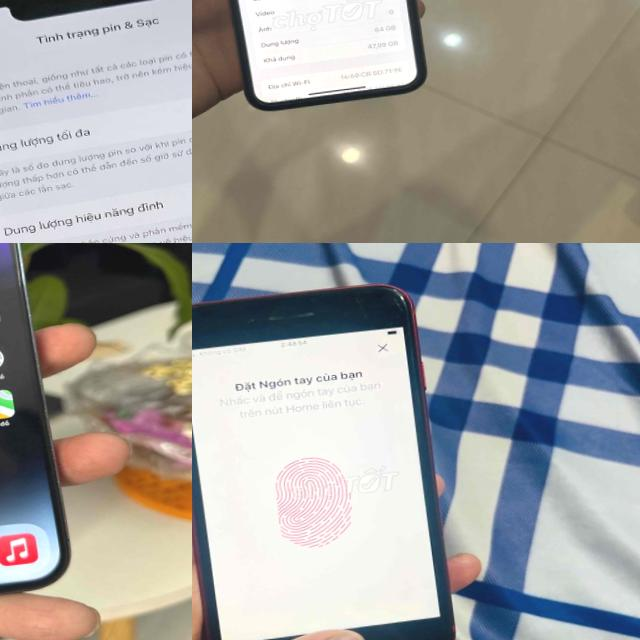scratch: (0, 0, 158, 47), (376, 288, 408, 316)
